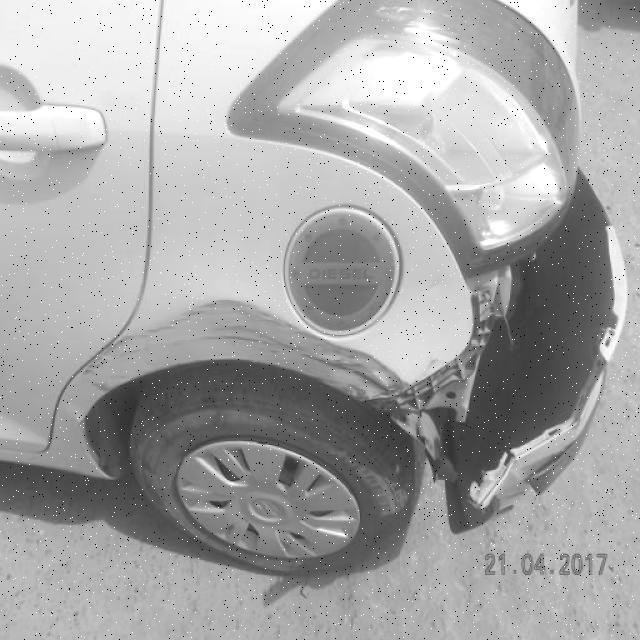car damage: (388, 176, 623, 521), (81, 290, 417, 404)
